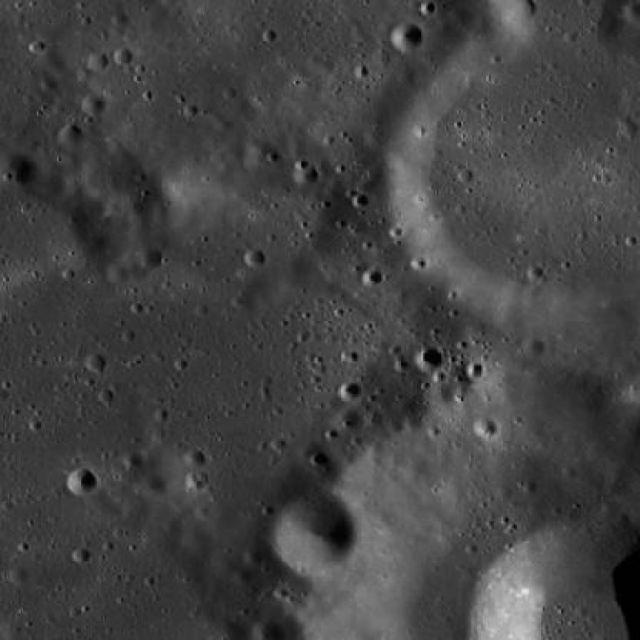crater: (270, 496, 358, 574), (83, 147, 143, 201), (0, 146, 38, 191), (298, 442, 332, 473), (244, 139, 276, 170), (119, 250, 150, 279), (392, 23, 422, 51), (334, 407, 364, 435), (184, 527, 213, 553), (68, 468, 96, 494), (120, 497, 148, 523), (416, 346, 442, 372), (450, 4, 476, 30), (428, 383, 454, 408), (141, 474, 167, 498), (138, 245, 164, 268), (81, 92, 105, 116), (474, 416, 498, 439), (294, 164, 318, 187), (106, 262, 131, 284), (58, 124, 80, 146), (512, 0, 536, 20), (183, 448, 206, 468), (523, 338, 546, 358), (186, 470, 208, 490), (338, 380, 360, 400), (362, 268, 384, 288), (87, 51, 107, 70), (125, 452, 144, 470), (86, 354, 105, 372), (244, 547, 264, 564), (245, 250, 264, 267), (115, 47, 134, 64), (8, 566, 26, 582), (73, 546, 90, 562), (0, 1, 2, 2), (1, 0, 2, 1), (1, 1, 2, 2)
